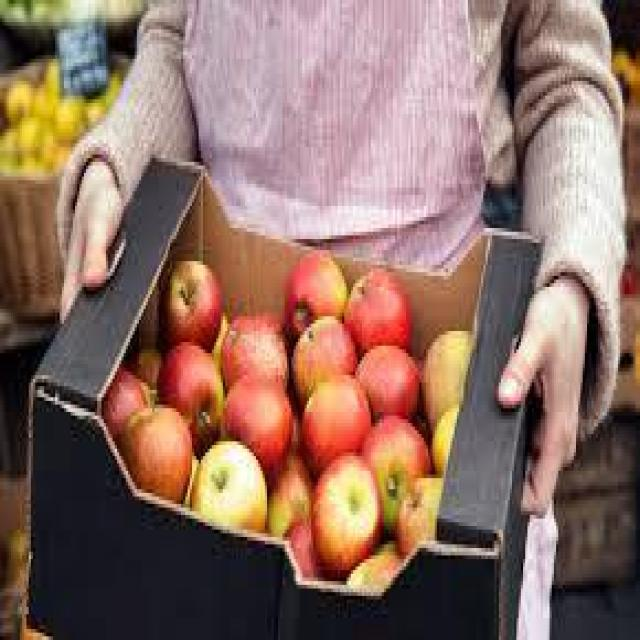maca: (156, 303, 393, 542)
